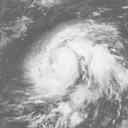cyclone: (25, 20, 114, 108)
